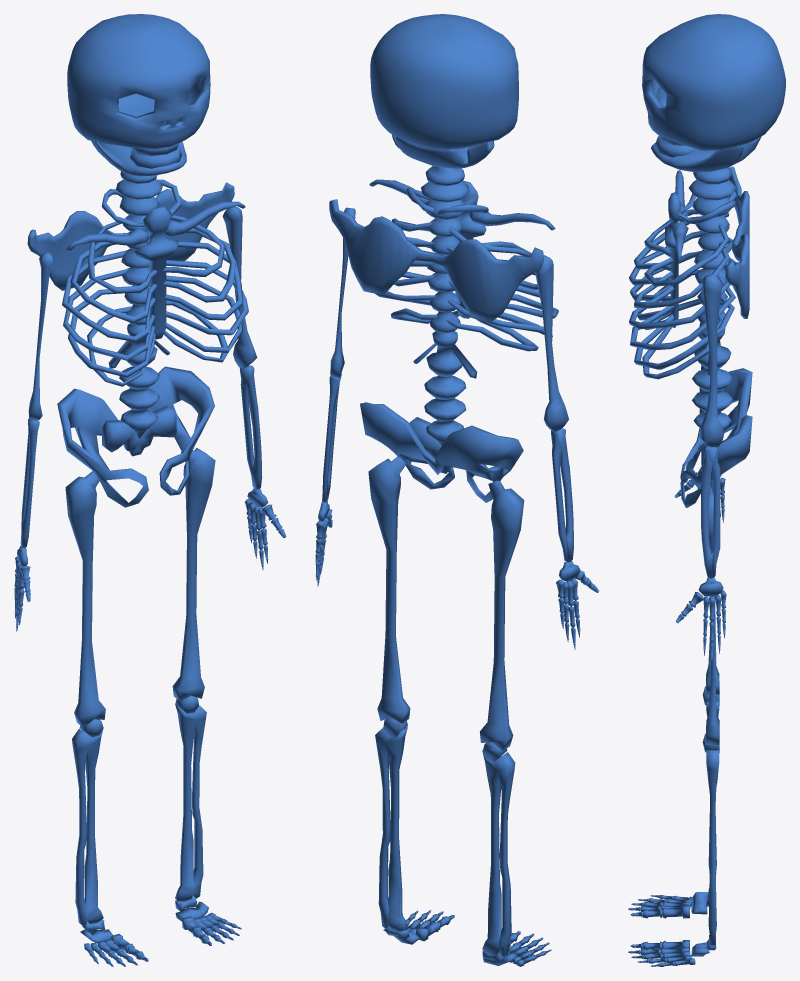
Rendered from Janice.fbx.
3 views of the same model, side by side, from view 1: azimuth 30°, elevation 25°; view 2: azimuth 150°, elevation 25°; view 3: azimuth 270°, elevation 25° (orthographic). The views are drawn at different scales.
Visible parts, largest first — view 1: Body, Head; view 2: Body, Head; view 3: Body, Head.
Boxes of the visible parts, left/top/right/bottom form: Body: left=14, top=171, right=286, bottom=966; Head: left=67, top=14, right=210, bottom=176; Body: left=315, top=166, right=599, bottom=966; Head: left=370, top=14, right=518, bottom=168; Body: left=628, top=166, right=752, bottom=966; Head: left=642, top=14, right=785, bottom=172.
Bounding box in the file's own units: 46.55 × 155 × 24.36.
